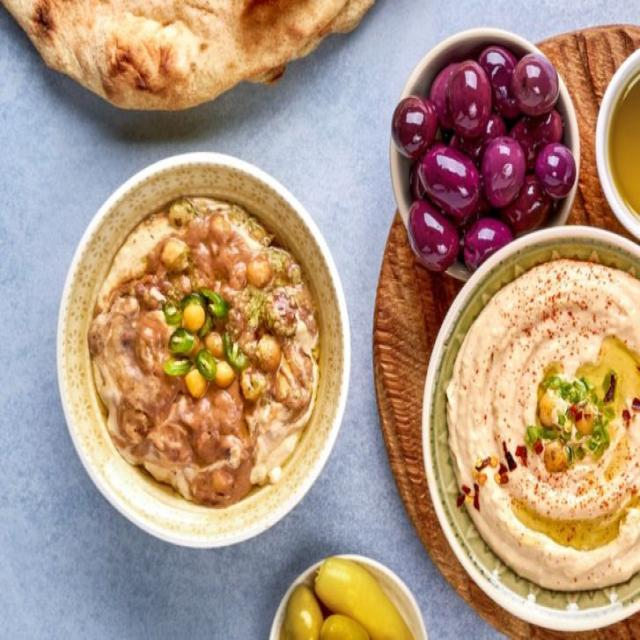fool: (89, 189, 329, 516)
